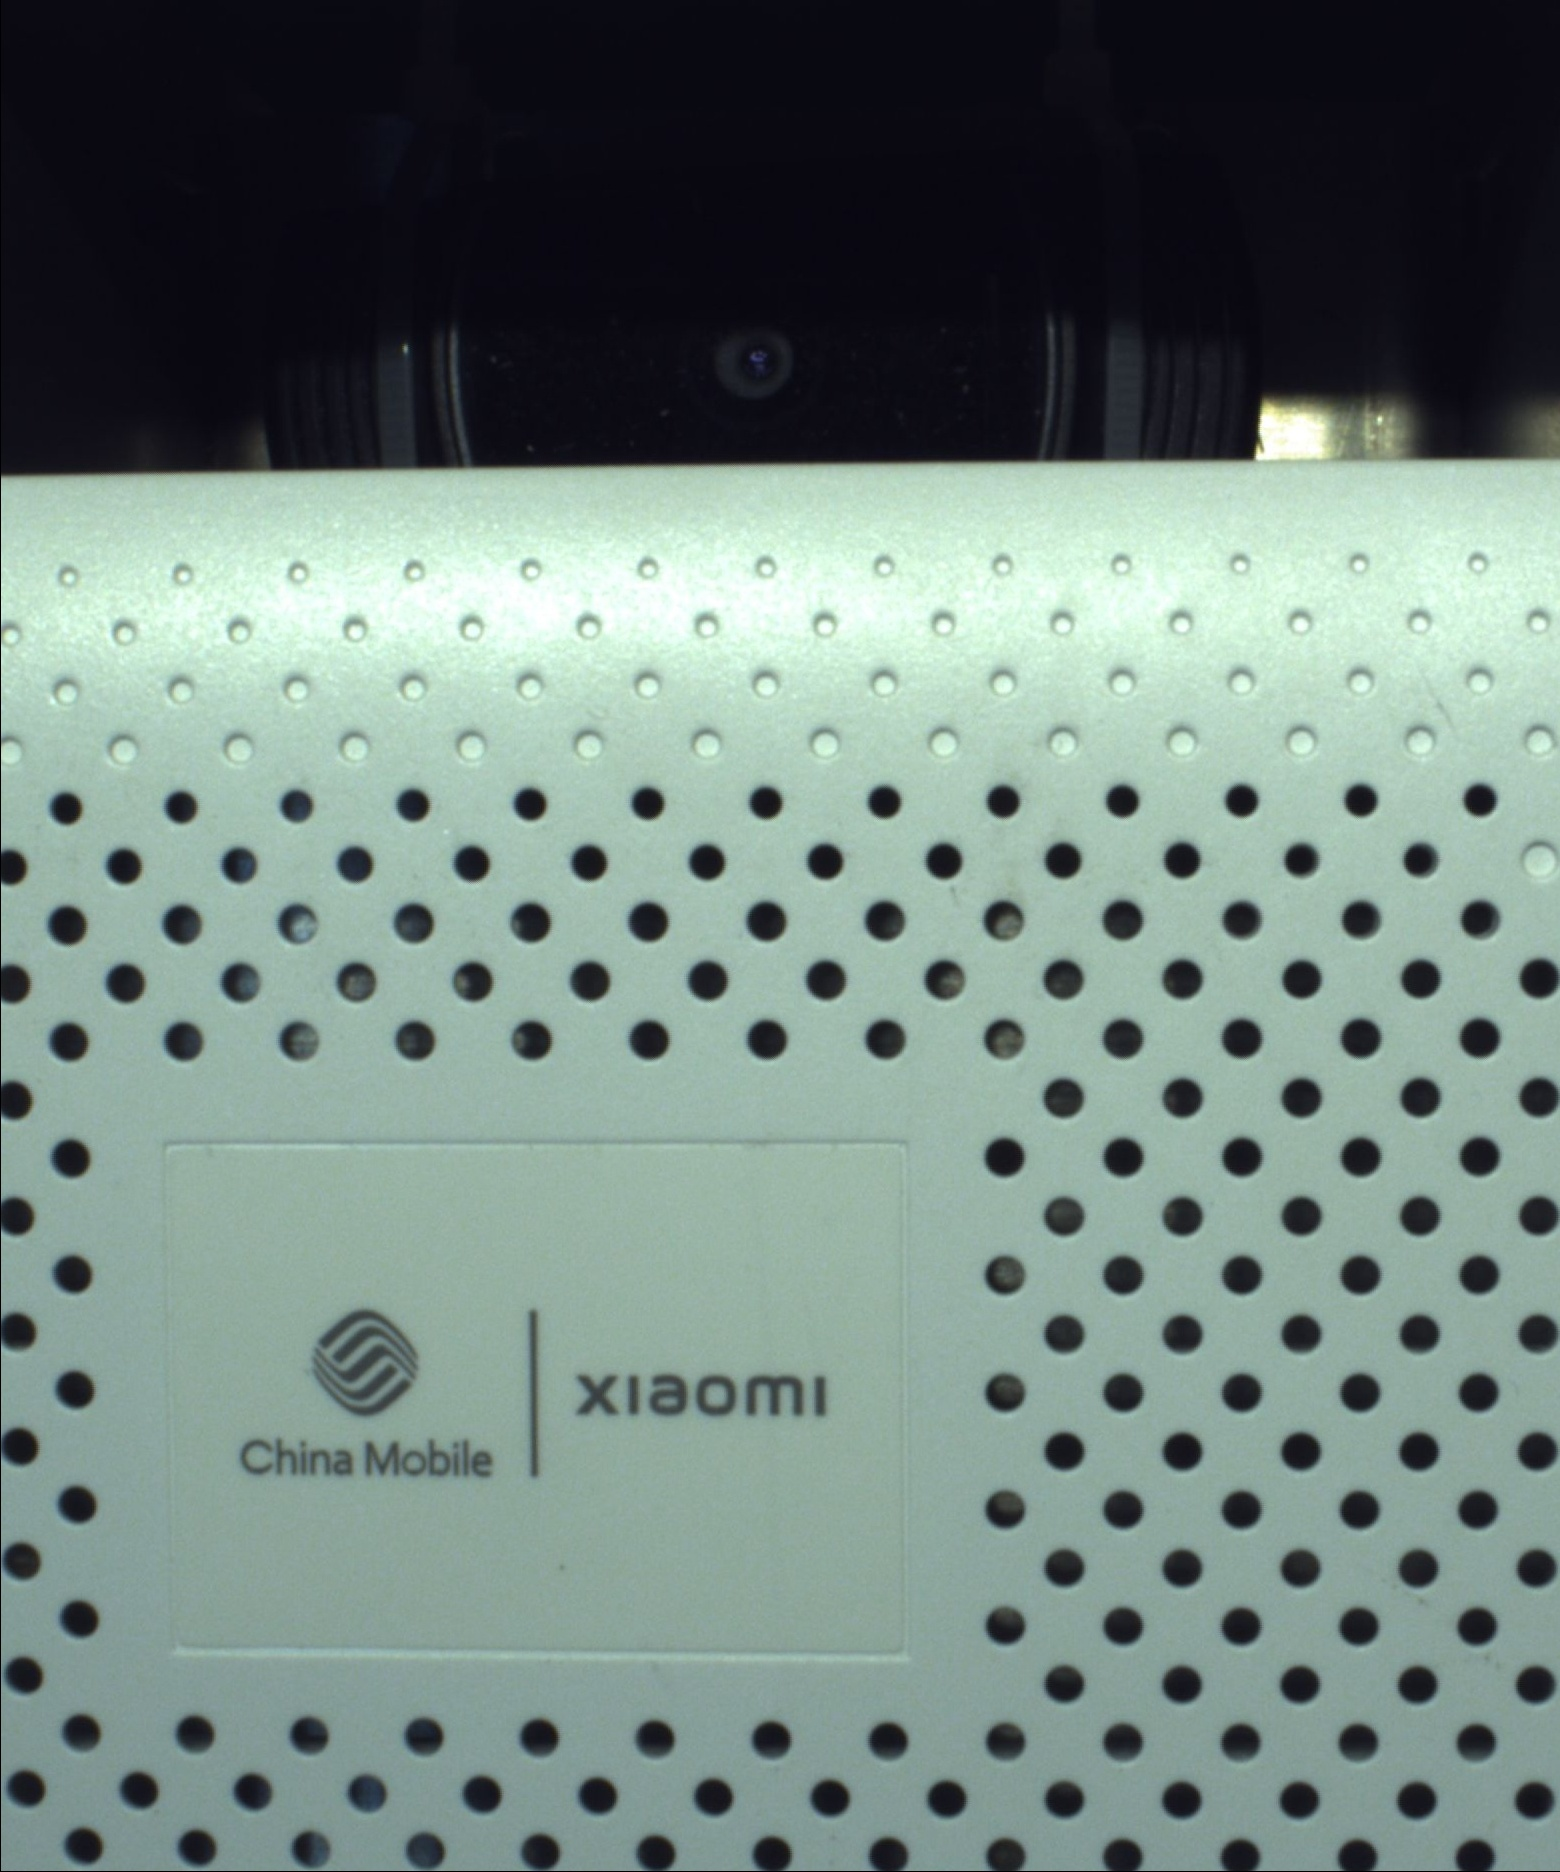MAD_ChinaMobile: (229, 1290, 845, 1510)
